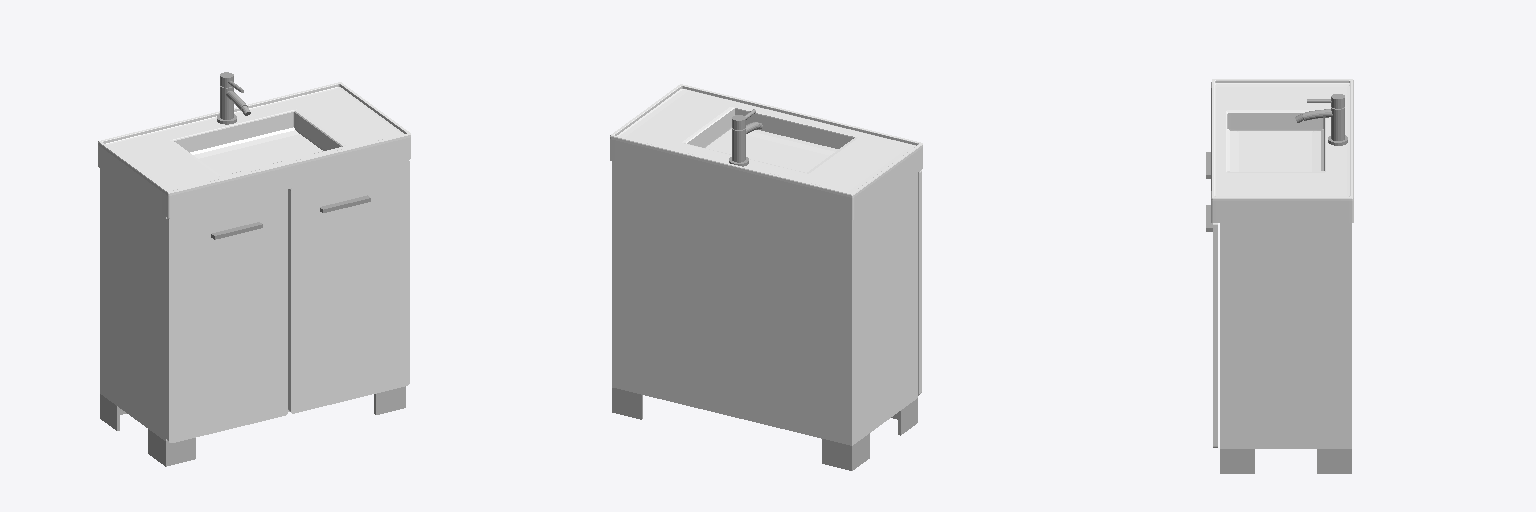
The model's file is bathroom_sink.obj.
3 views of the same model, side by side, from view 1: azimuth 30°, elevation 25°; view 2: azimuth 150°, elevation 25°; view 3: azimuth 270°, elevation 25° (orthographic).
Visible parts, largest first — view 1: Rectangle10_4, Rectangle01_5, Rectangle09_9, Box01_6, Line02_10, Line03_3, Line05_7; view 2: Box01_6, Rectangle09_9, Line05_7, Rectangle01_5, Line04_2, Line02_10; view 3: Box01_6, Rectangle09_9, Rectangle10_4, Line04_2, Line03_3.
Part boxes in pixels (bbox=[...]): Rectangle10_4: bbox=[288, 160, 409, 413]; Rectangle01_5: bbox=[166, 190, 287, 442]; Rectangle09_9: bbox=[98, 82, 410, 217]; Box01_6: bbox=[100, 169, 288, 440]; Line02_10: bbox=[148, 429, 195, 466]; Line03_3: bbox=[374, 386, 405, 414]; Line05_7: bbox=[100, 394, 126, 430]; Box01_6: bbox=[612, 162, 917, 445]; Rectangle09_9: bbox=[610, 84, 922, 219]; Line05_7: bbox=[822, 433, 869, 470]; Rectangle01_5: bbox=[918, 170, 921, 395]; Line04_2: bbox=[612, 388, 642, 419]; Line02_10: bbox=[891, 398, 917, 435]; Box01_6: bbox=[1220, 223, 1351, 448]; Rectangle09_9: bbox=[1211, 79, 1353, 222]; Rectangle10_4: bbox=[1213, 223, 1217, 447]; Line04_2: bbox=[1317, 449, 1351, 473]; Line03_3: bbox=[1220, 449, 1254, 473].
Size of the model in its own units: 81 by 101 by 42.5.